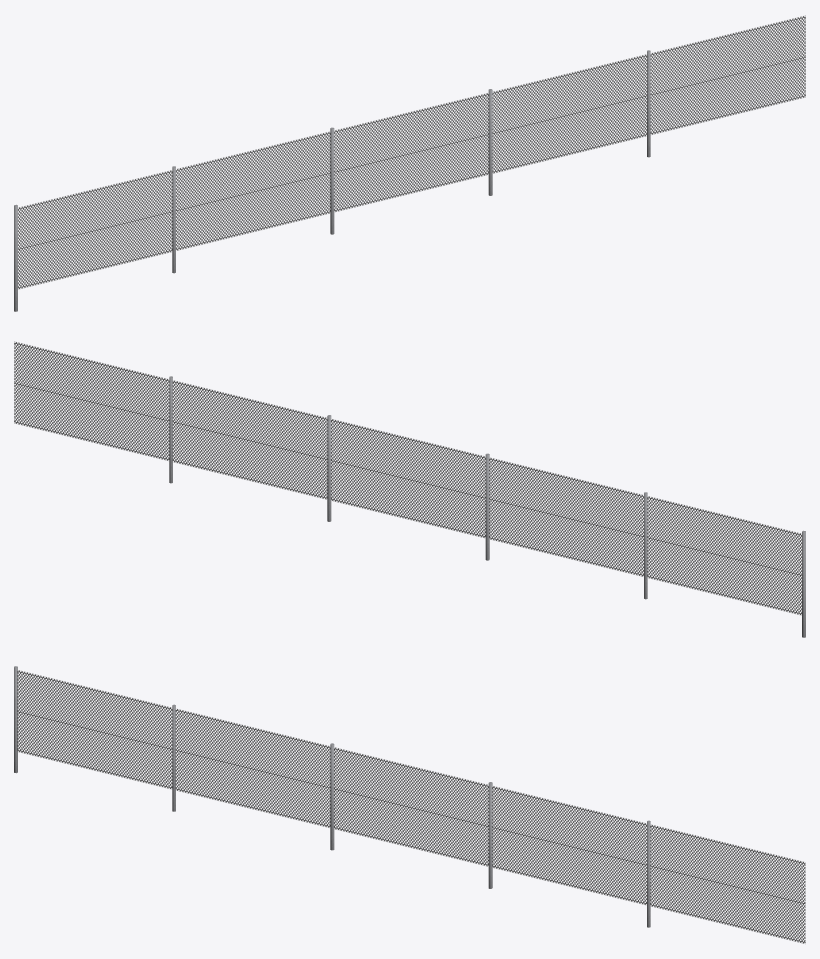
The model's file is fence-tall-chainlink-5s-cbj_LOD01.gltf.
3 views of the same model, one above another, from view 1: azimuth 30°, elevation 25°; view 2: azimuth 150°, elevation 25°; view 3: azimuth 330°, elevation 25° (orthographic).
Parts seen in each view (by area): view 1: Cube01; view 2: Cube01; view 3: Cube01.
Part boxes in pixels (left/top/right/bottom): Cube01: left=14, top=15, right=805, bottom=311; Cube01: left=14, top=341, right=805, bottom=637; Cube01: left=14, top=666, right=805, bottom=943.
Bounding box in the file's own units: 18.31 × 2.33 × 0.08.
